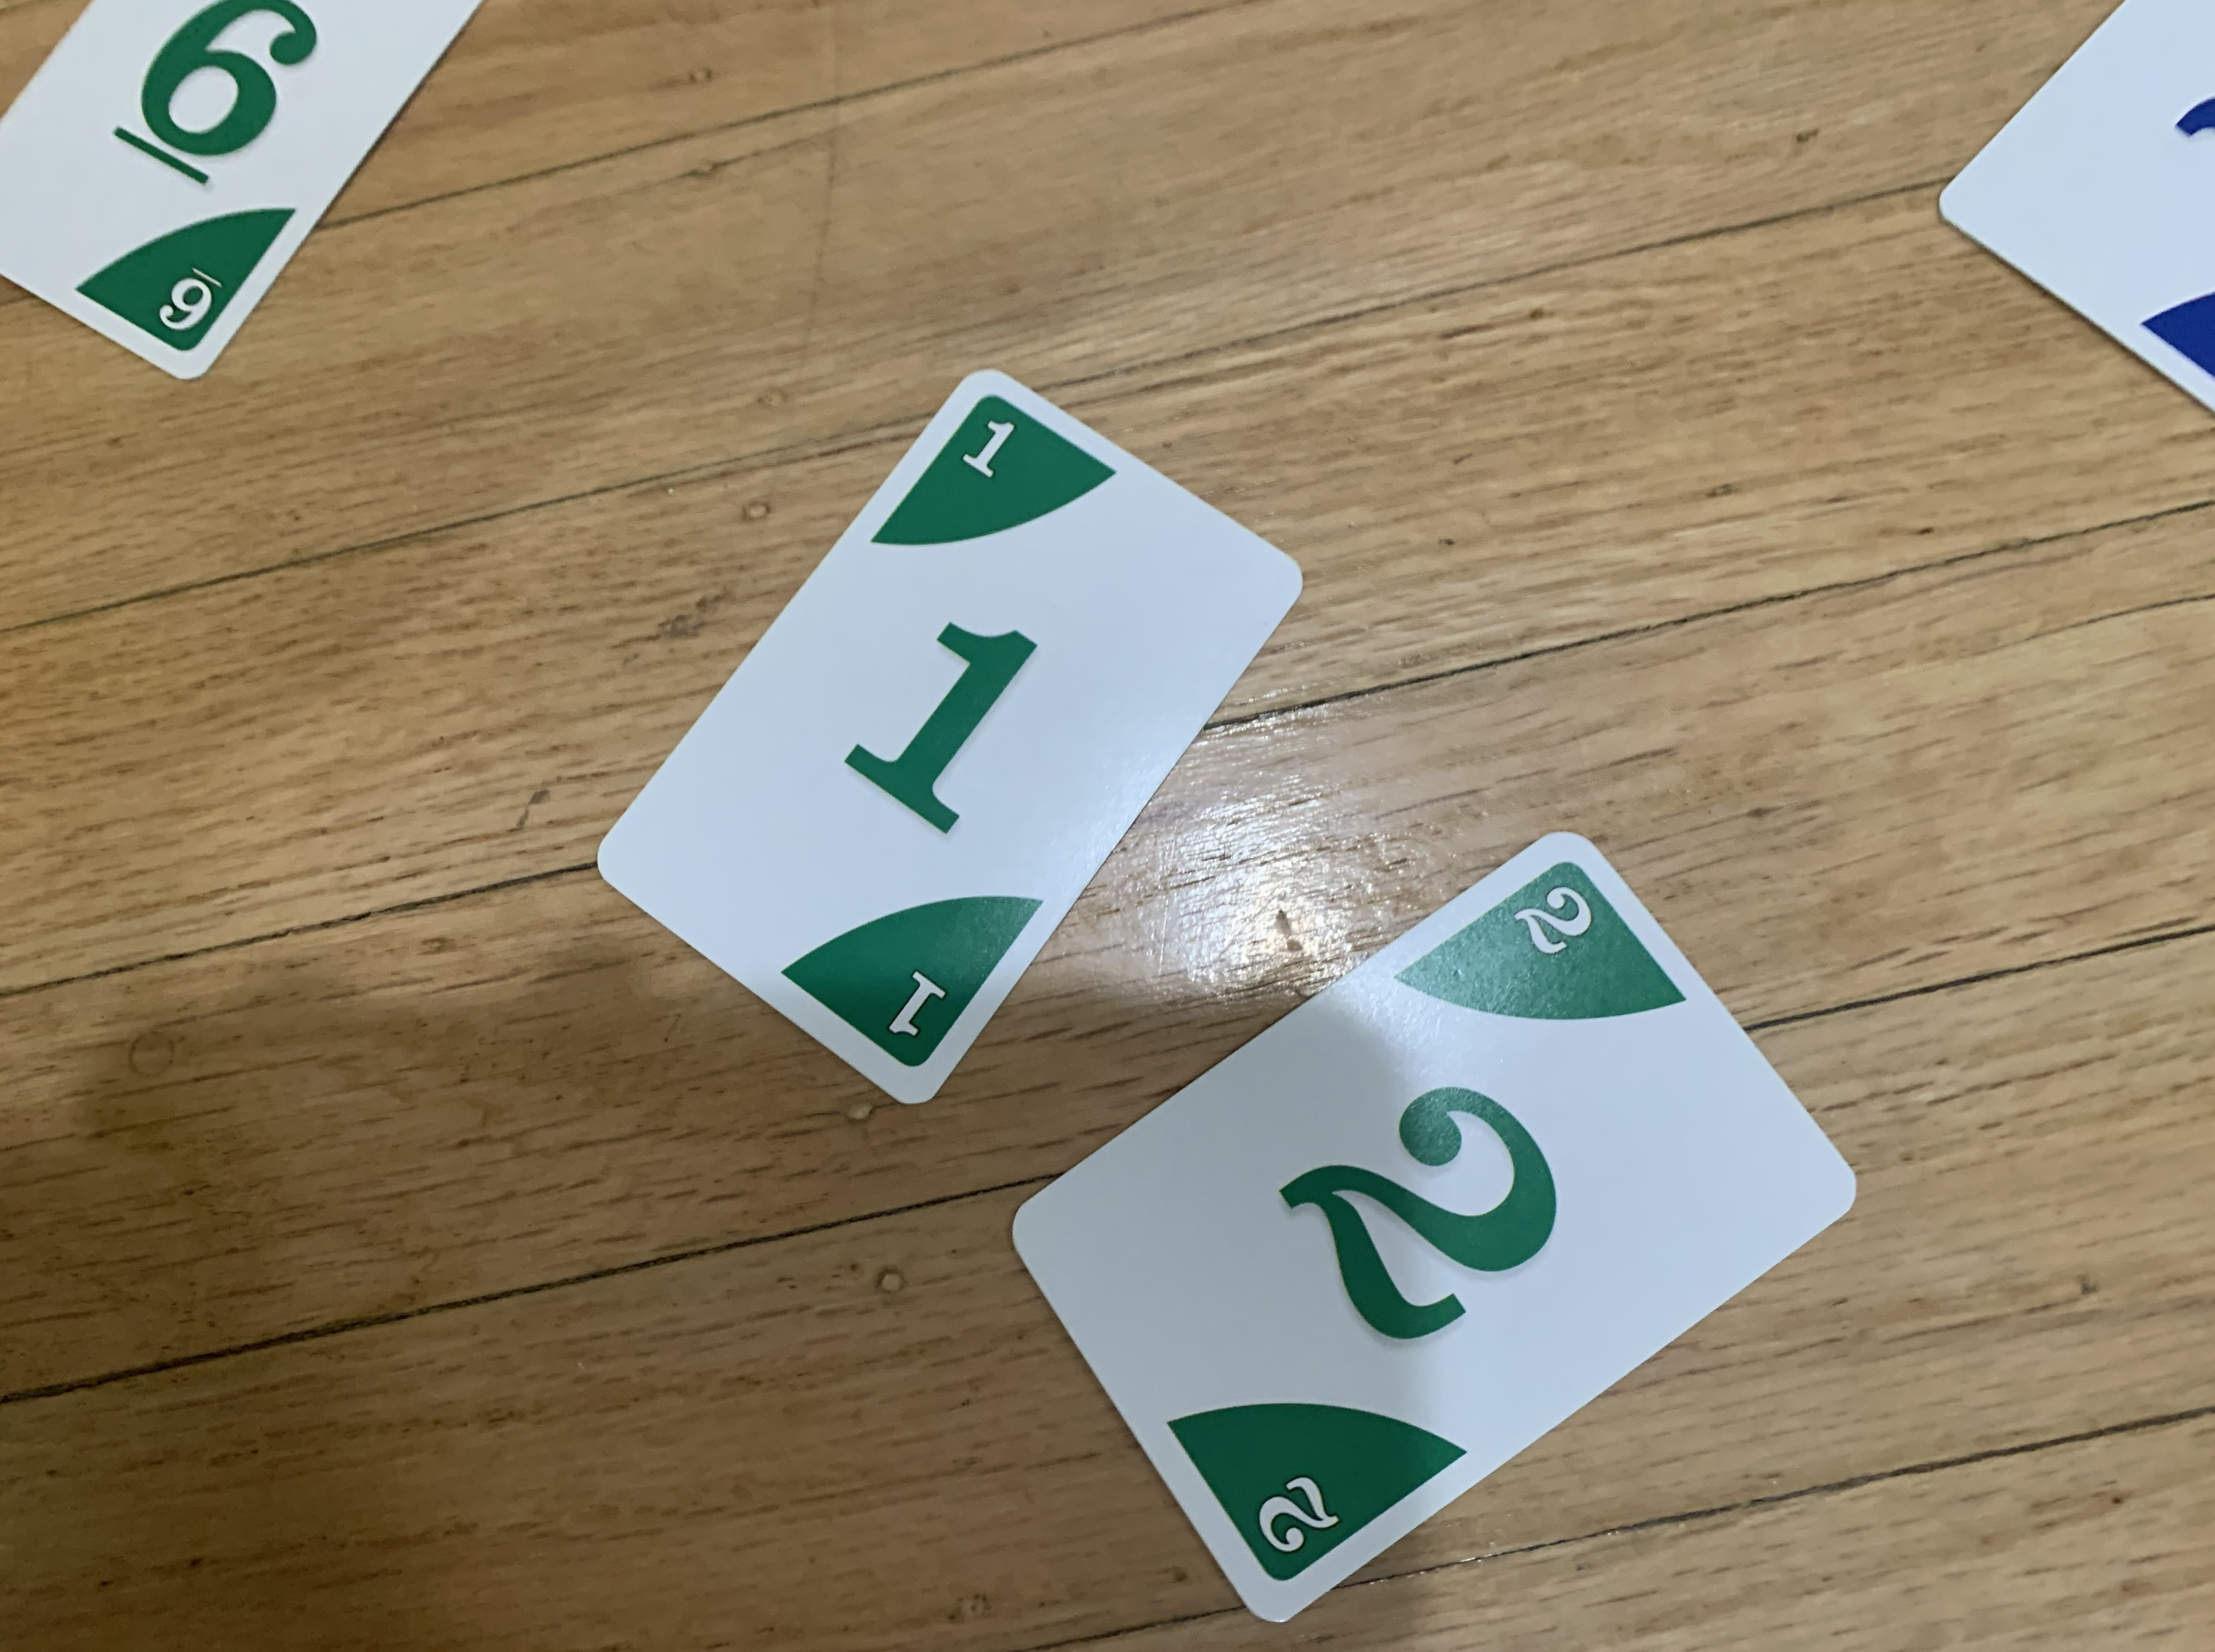one: (582, 352, 1321, 1144)
two: (1000, 814, 1892, 1642)
